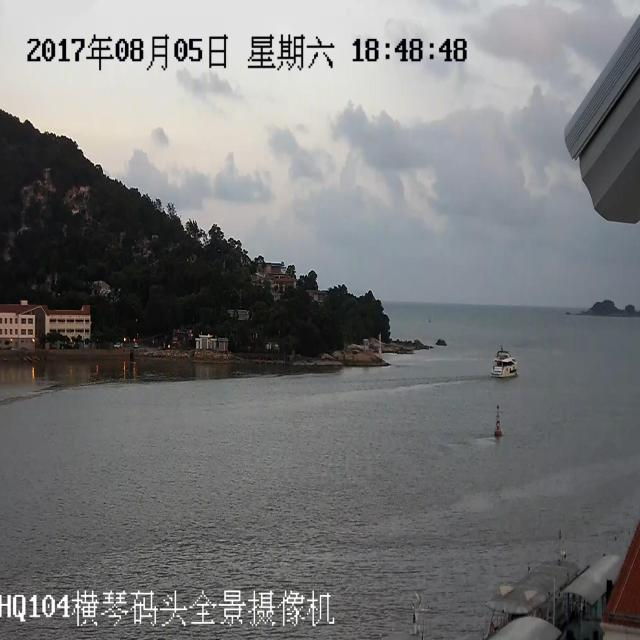buoy: (482, 398, 508, 452)
passenger ship: (492, 338, 519, 385)
reef: (572, 284, 640, 336)
